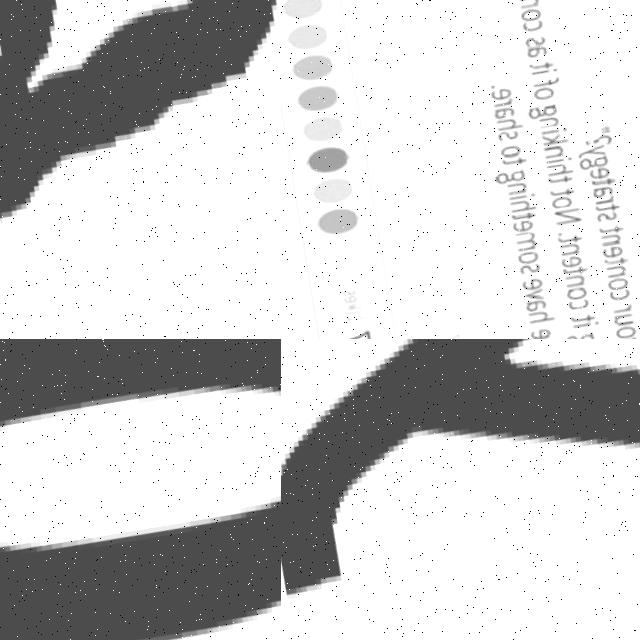0: (0, 339, 281, 640), (355, 333, 382, 339)
1: (449, 332, 473, 339)
7: (354, 323, 381, 339), (449, 325, 470, 339)
Y: (281, 339, 640, 633)
